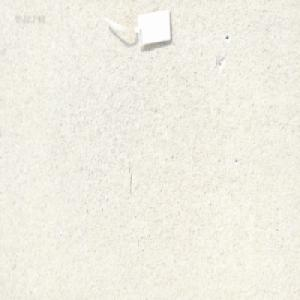LuggageTag: (100, 9, 172, 53)
